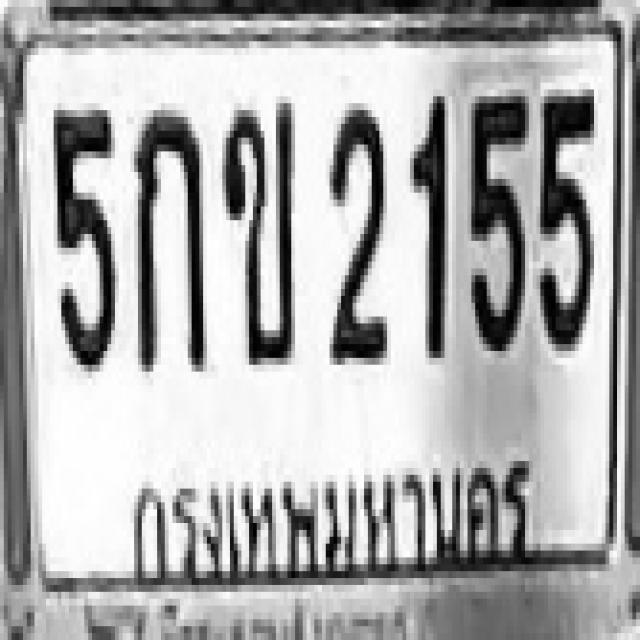1: (406, 89, 445, 351)
10GorGai: (130, 103, 203, 365)
11KhorKhai: (218, 96, 292, 358)
2: (326, 103, 383, 358)
5: (50, 103, 115, 365), (468, 89, 525, 351), (537, 90, 590, 344)
Bangkok: (116, 441, 550, 609)
